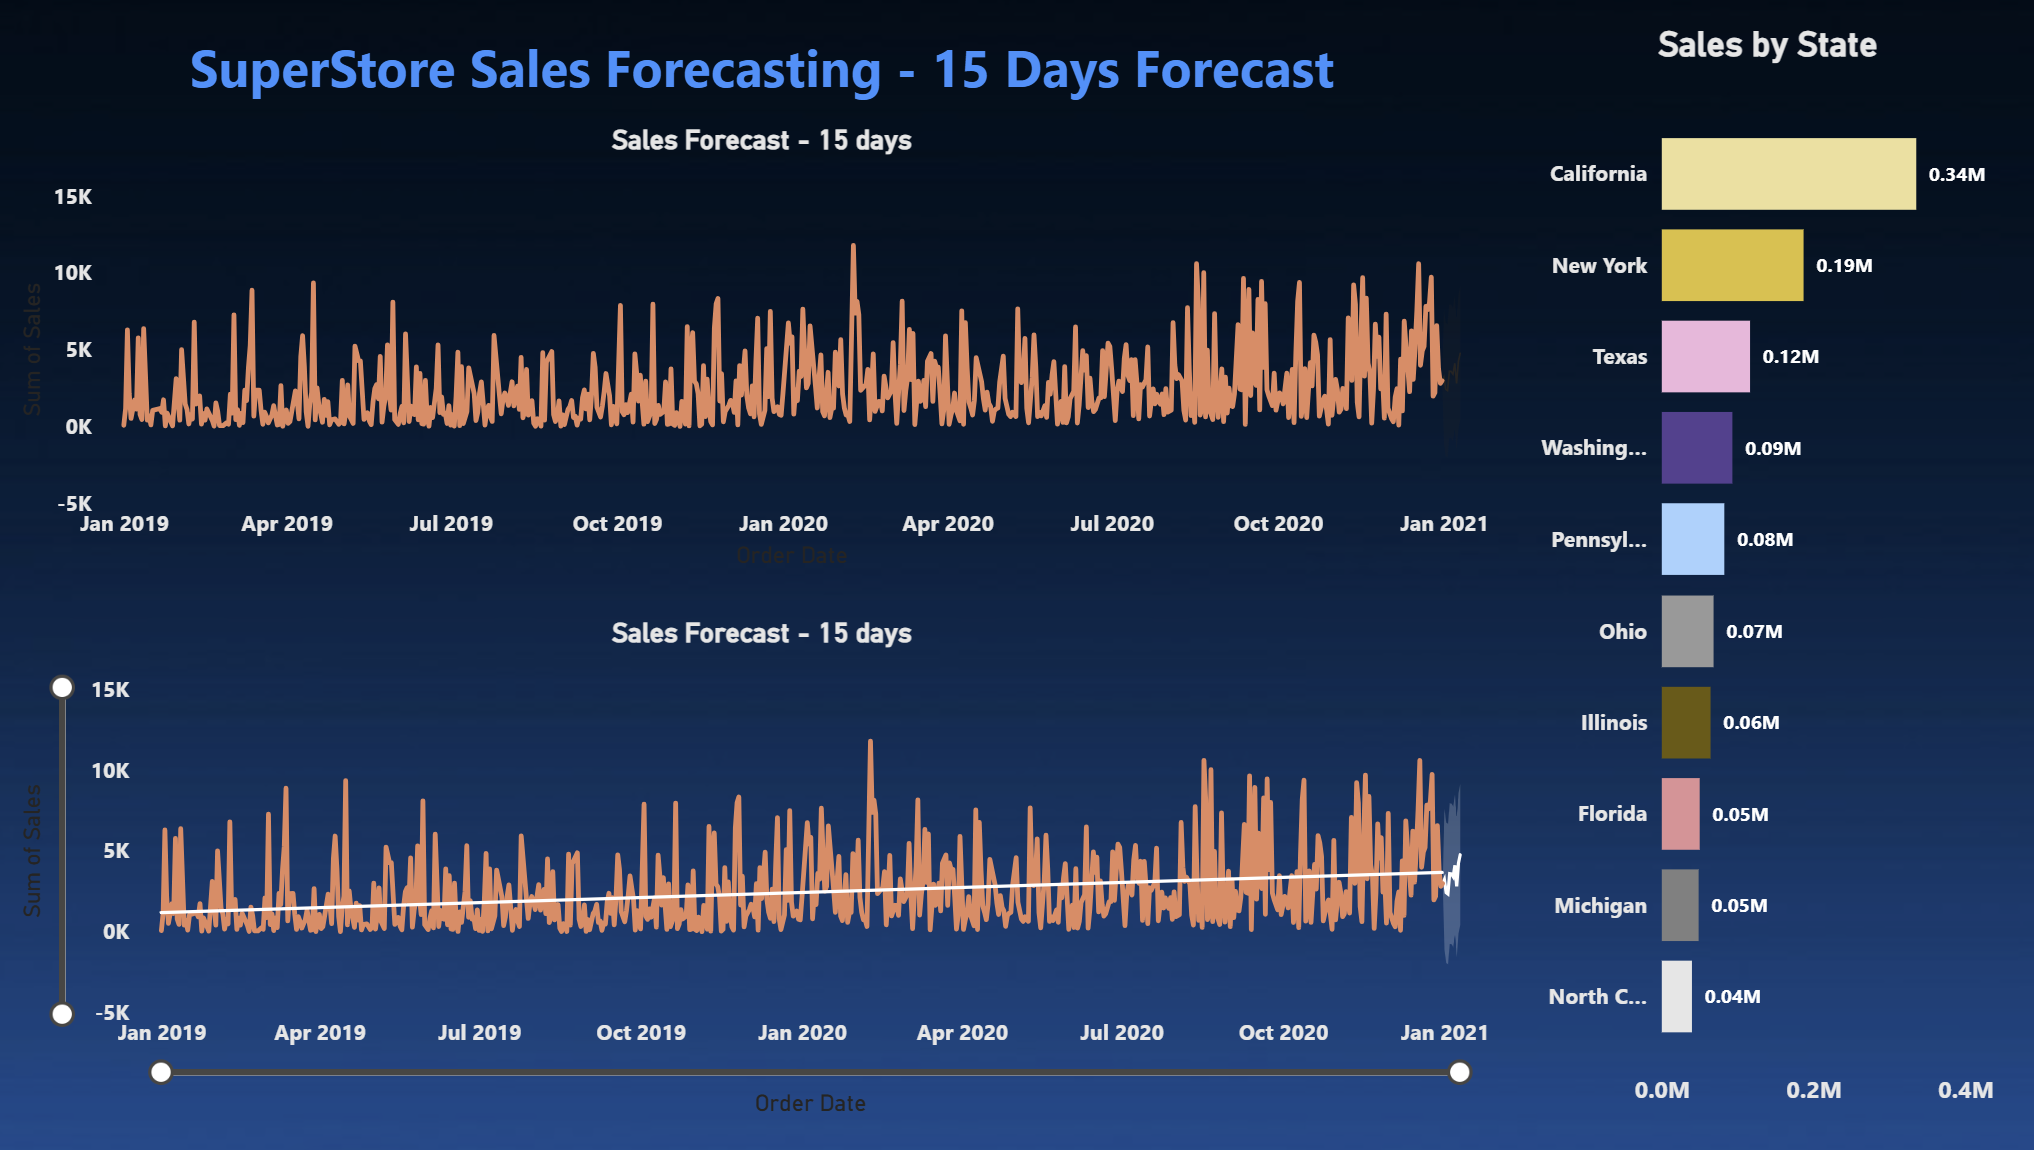

Layout of this report page (visuals, bound fields, positions):
{"tool":"powerbi","page":{"name":"Page 2","canvas":[1280,720],"ordinal":1},"visuals":[{"type":"lineChart","title":"Sales Forecast - 15 days","fields":{"Y":["Sum(SuperStore_Sales_Dataset.Sales)"],"Category":["SuperStore_Sales_Dataset.Order Date"]},"box":[10,77.5,938.8,282.5],"z":0},{"type":"lineChart","title":"Sales Forecast - 15 days","fields":{"Y":["Sum(SuperStore_Sales_Dataset.Sales)"],"Category":["SuperStore_Sales_Dataset.Order Date"]},"box":[10,385,938.8,316.2],"z":1},{"type":"clusteredBarChart","title":"Sales by State","fields":{"Category":["SuperStore_Sales_Dataset.State"],"Y":["Sum(SuperStore_Sales_Dataset.Sales)"]},"box":[948.8,15,318.8,686.2],"z":2},{"type":"textbox","box":[10,15,938.8,66.2],"z":3}]}

Visuals, with their boxes in screenshot pixels (x1, y1, x2, y2), scaled from the page's 1280x720 canvas onto the 2034x1150 screenshot:
"Sales Forecast - 15 days" lineChart: select_region(16, 124, 1508, 575)
"Sales Forecast - 15 days" lineChart: select_region(16, 615, 1508, 1120)
"Sales by State" clusteredBarChart: select_region(1508, 24, 2014, 1120)
textbox: select_region(16, 24, 1508, 130)
